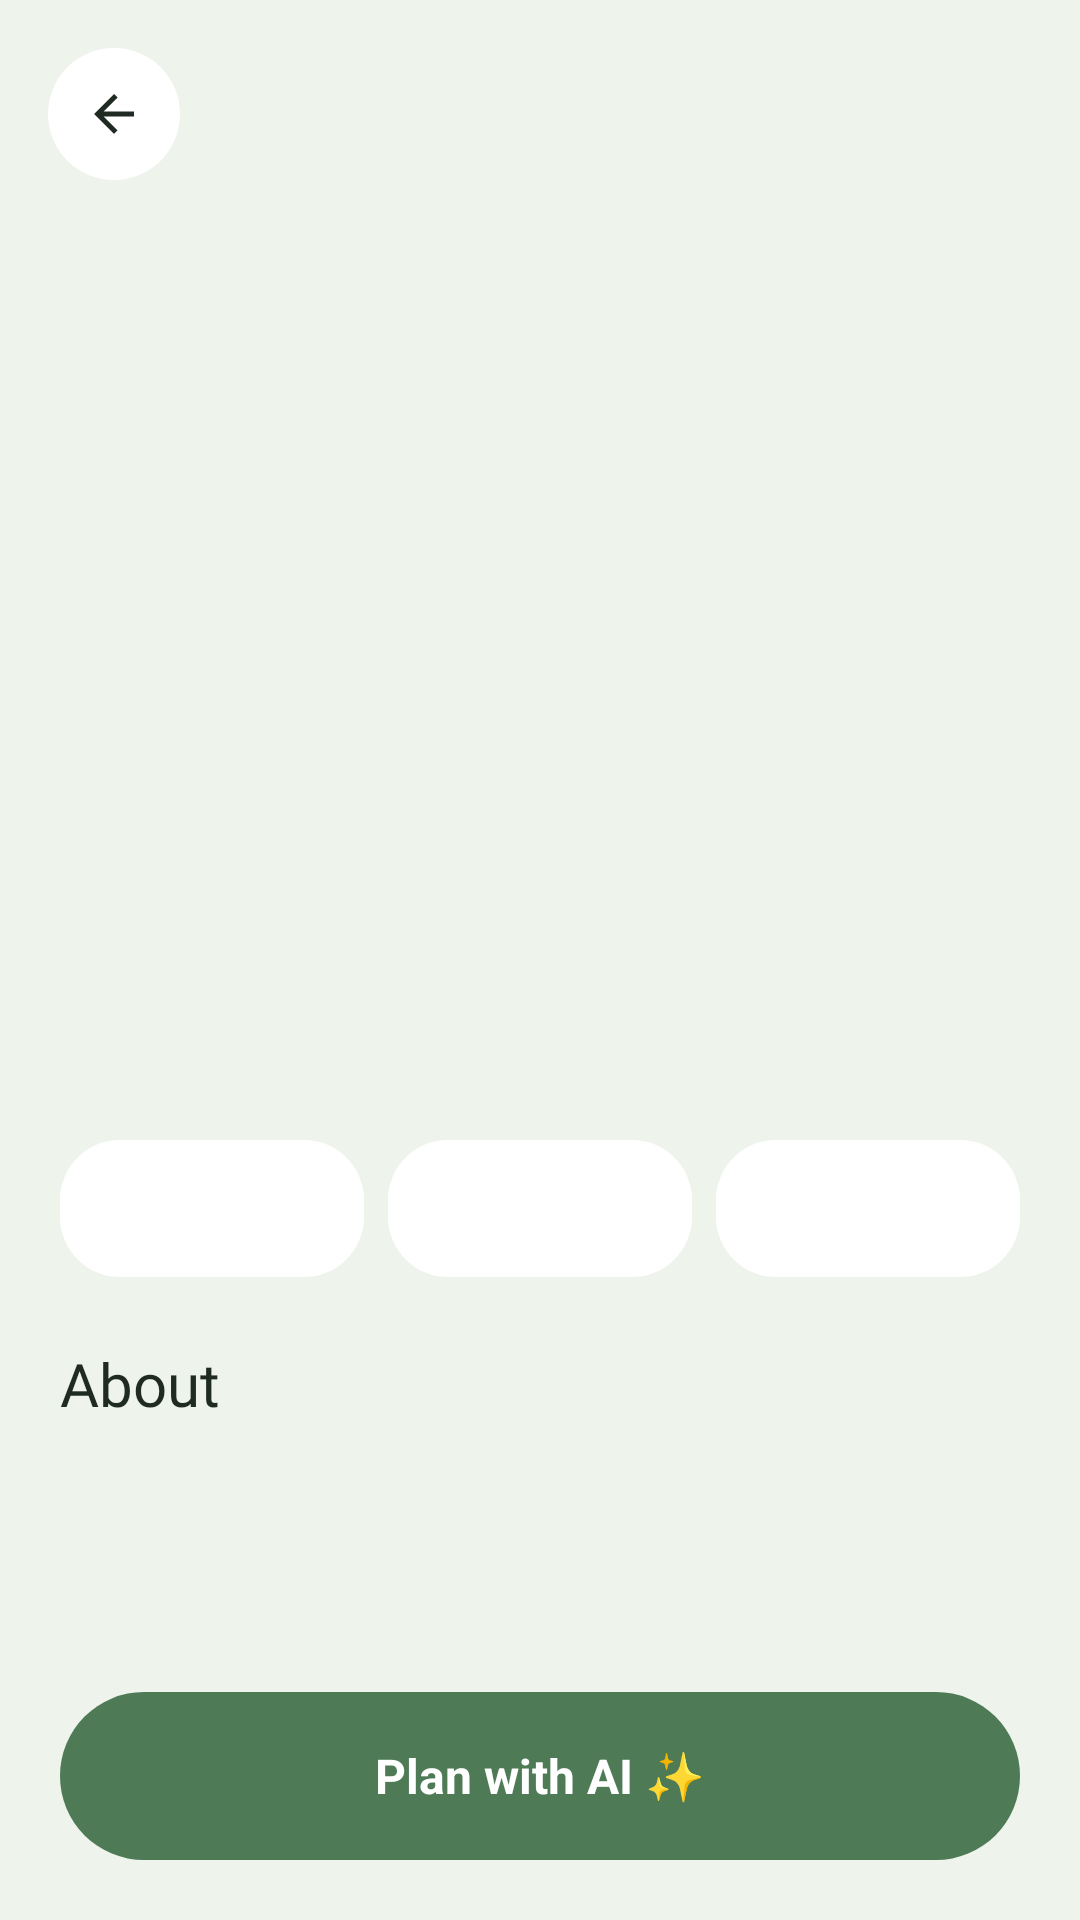

Screen size 1080px×1920px. Icon name, then its center in pixels as (x,y):
back: (114,114)
